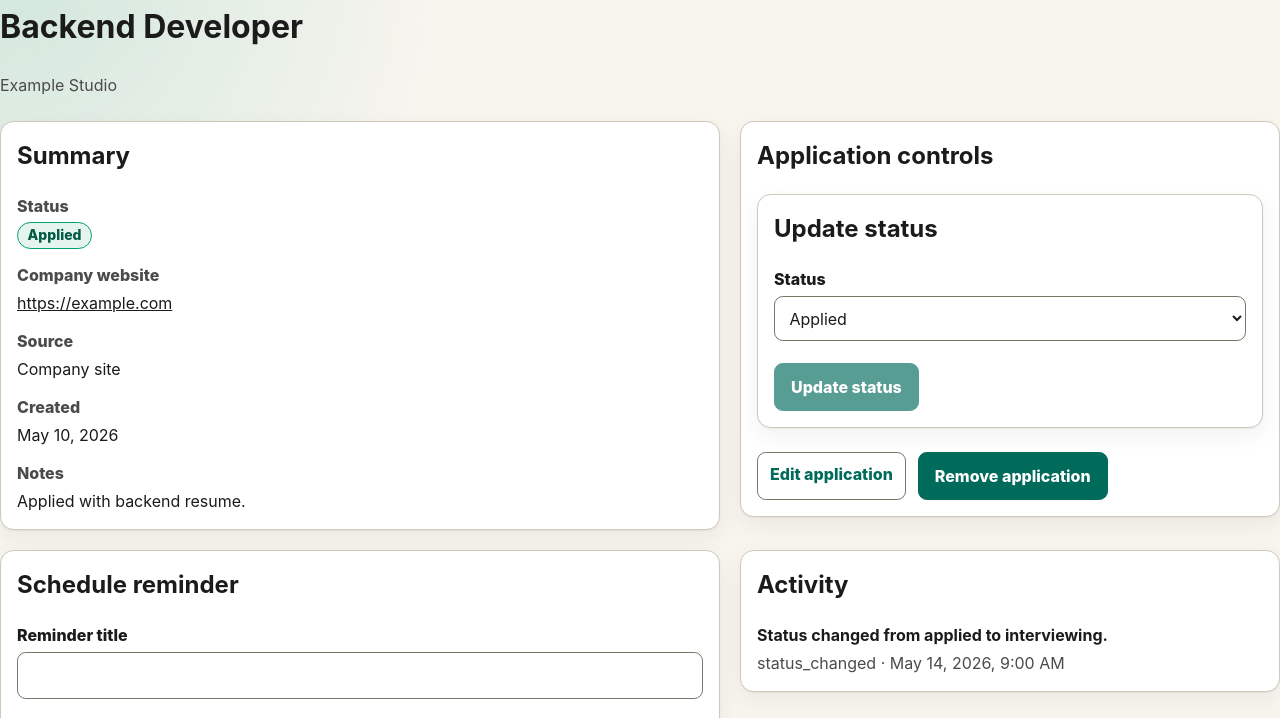
Scenario: ApplicationDetailPage › schedules a reminder
The width and height of the screenshot is (1280, 718).
Check: the heading "Backend Developer" is shown, box [0,7,303,46]
In the field labelled "Reminder title": (360, 676) [17,652,703,699], type "Follow up with recruiter"
(page scrolled)
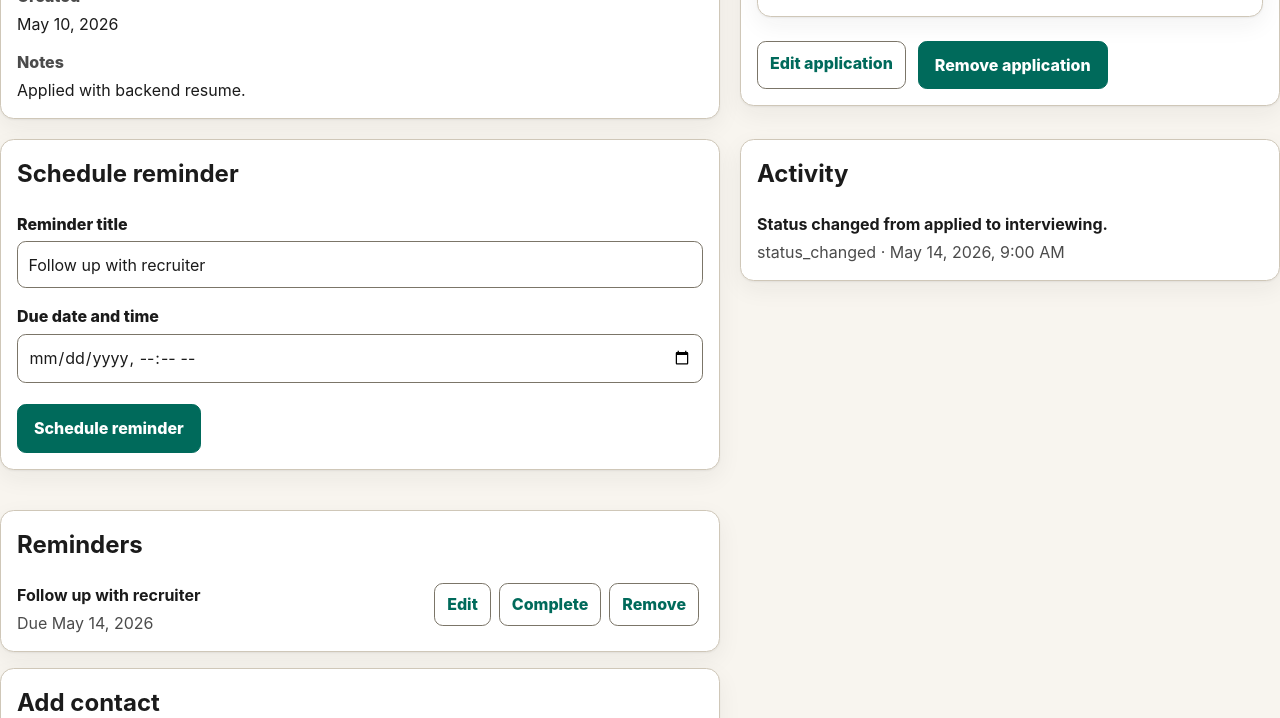
In the field labelled "Due date and time": (360, 358) [17,334,703,383], type "2026-05-14T09:00"
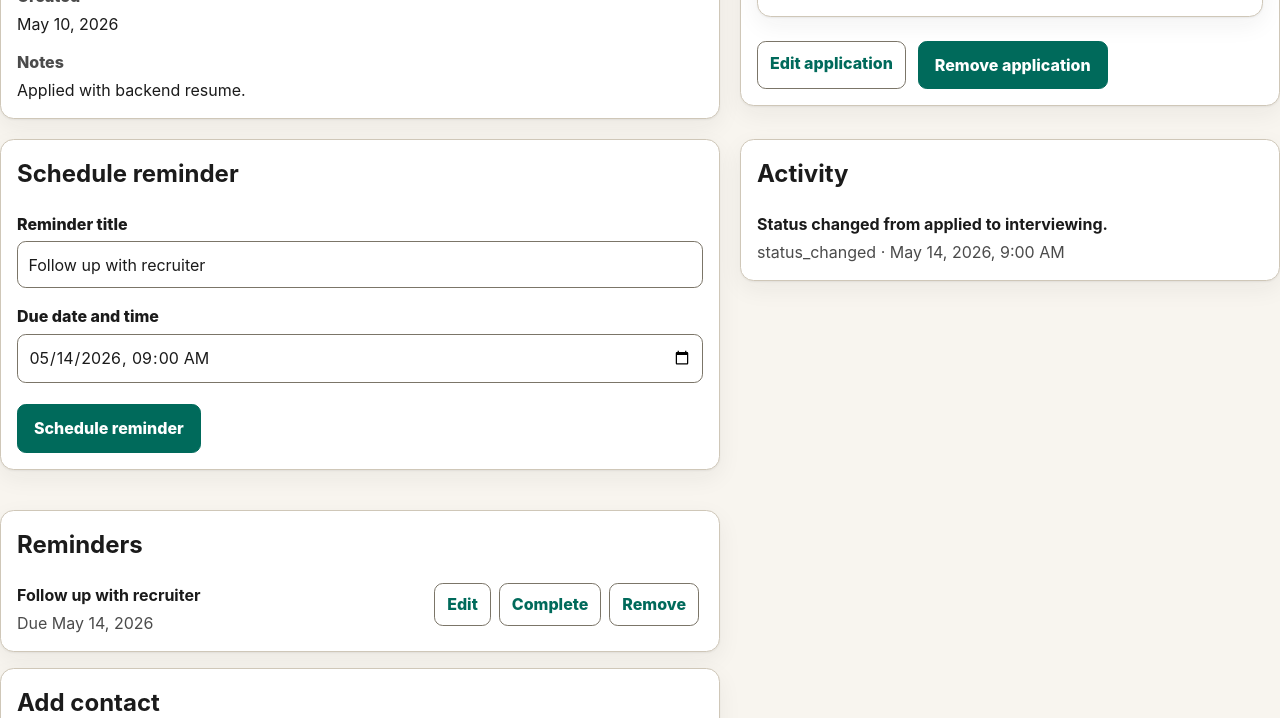
Click the button "Schedule reminder": (109, 428) [17,404,201,453]
(page scrolled)
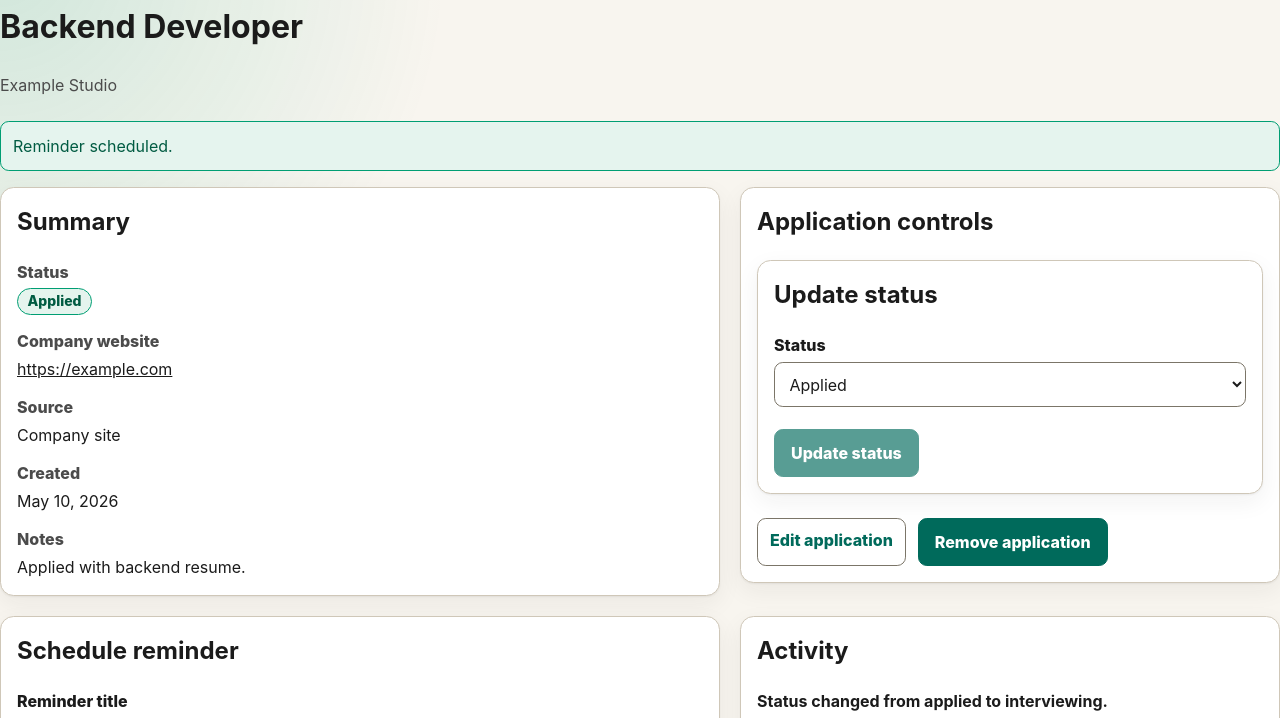
Check: the message reads "Reminder scheduled.", box [13,136,173,156]
